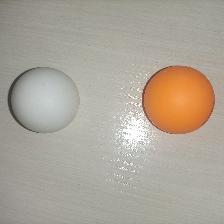WhiteBall: (10, 66, 80, 133)
YellowBall: (142, 65, 215, 134)
